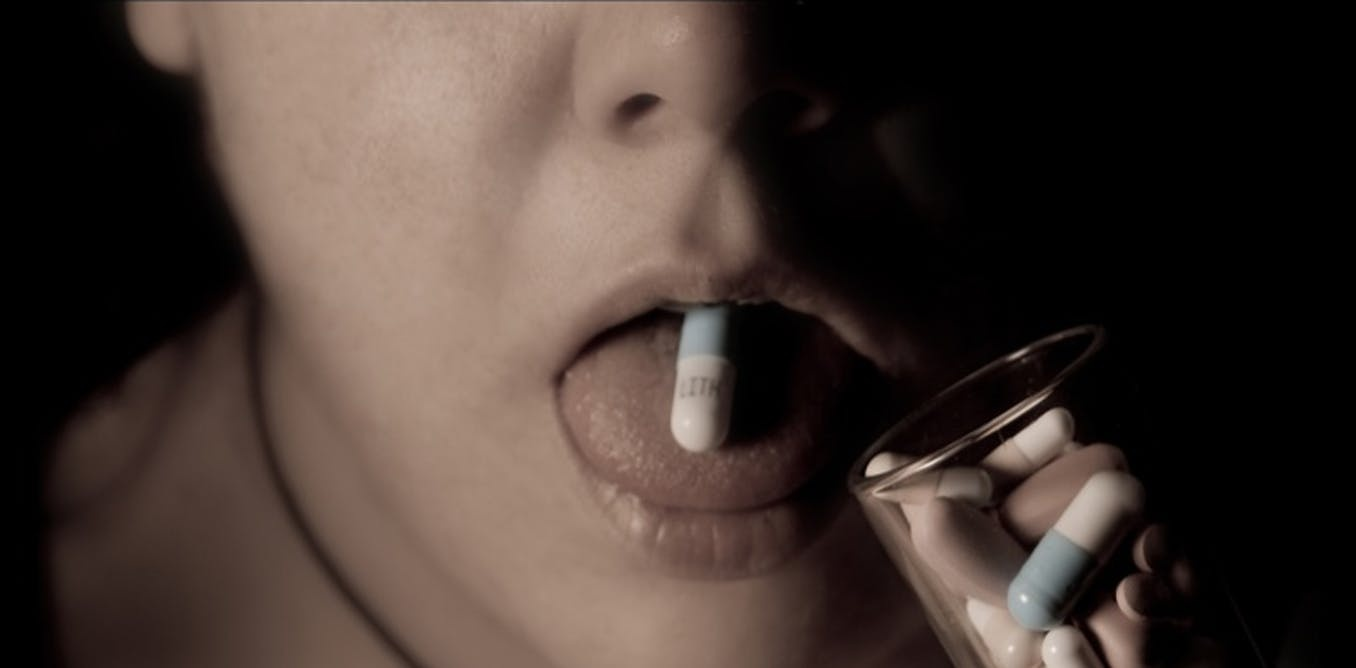pills: (1012, 465, 1144, 626), (659, 288, 755, 462)
